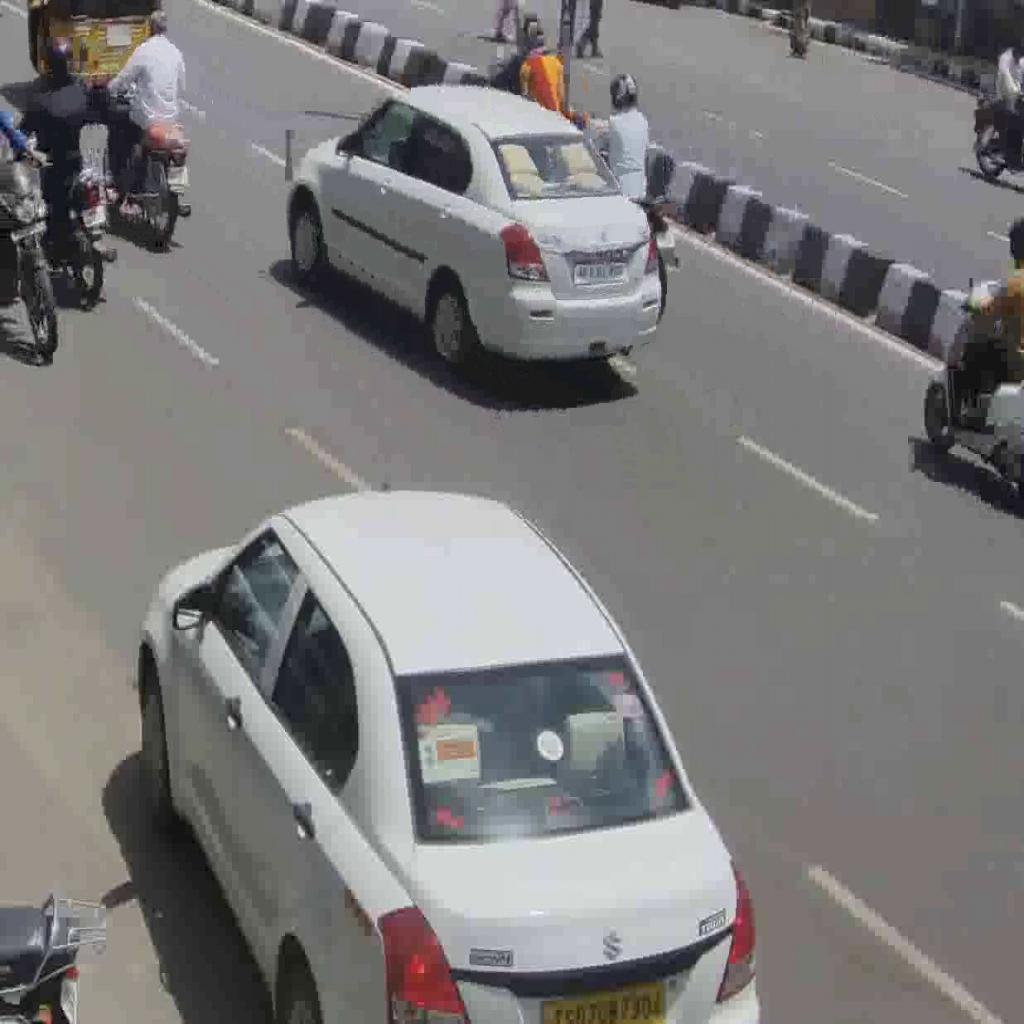helmet: (922, 279, 1024, 498), (103, 73, 193, 247), (0, 154, 60, 356), (47, 166, 120, 300)
